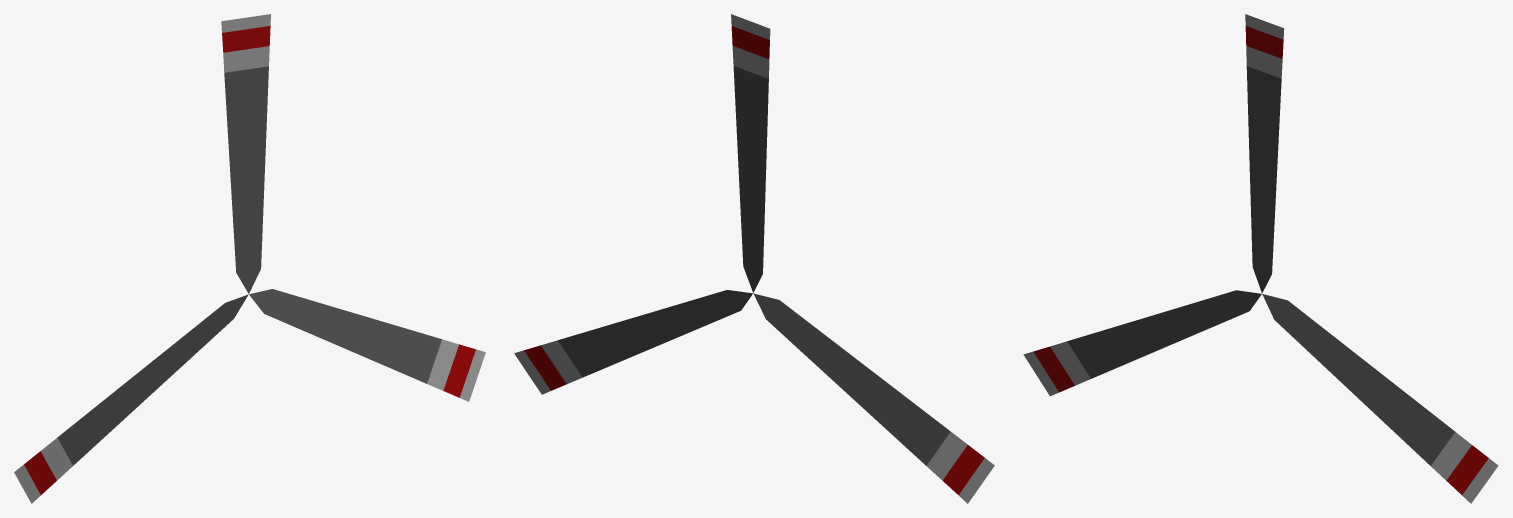
The model's file is Prop_US2ANP.obj.
The picture shows the model from 3 angles, left to right: view 1: azimuth 30°, elevation 25°; view 2: azimuth 150°, elevation 25°; view 3: azimuth 330°, elevation 25°; orthographic projection.
Visible parts, largest first — view 1: ShapeIndexedFaceSet.022_ShapeIndexedFaceSet.023, ShapeIndexedFaceSet.024_ShapeIndexedFaceSet.025, ShapeIndexedFaceSet.023_ShapeIndexedFaceSet.024; view 2: ShapeIndexedFaceSet.022_ShapeIndexedFaceSet.023, ShapeIndexedFaceSet.024_ShapeIndexedFaceSet.025, ShapeIndexedFaceSet.023_ShapeIndexedFaceSet.024; view 3: ShapeIndexedFaceSet.022_ShapeIndexedFaceSet.023, ShapeIndexedFaceSet.024_ShapeIndexedFaceSet.025, ShapeIndexedFaceSet.023_ShapeIndexedFaceSet.024.
Part boxes in pixels (bbox=[...]): ShapeIndexedFaceSet.022_ShapeIndexedFaceSet.023: bbox=[57, 66, 441, 465]; ShapeIndexedFaceSet.024_ShapeIndexedFaceSet.025: bbox=[14, 14, 485, 503]; ShapeIndexedFaceSet.023_ShapeIndexedFaceSet.024: bbox=[24, 26, 475, 494]; ShapeIndexedFaceSet.022_ShapeIndexedFaceSet.023: bbox=[558, 66, 950, 465]; ShapeIndexedFaceSet.024_ShapeIndexedFaceSet.025: bbox=[514, 14, 994, 503]; ShapeIndexedFaceSet.023_ShapeIndexedFaceSet.024: bbox=[524, 26, 984, 494]; ShapeIndexedFaceSet.022_ShapeIndexedFaceSet.023: bbox=[1067, 66, 1454, 465]; ShapeIndexedFaceSet.024_ShapeIndexedFaceSet.025: bbox=[1023, 14, 1498, 503]; ShapeIndexedFaceSet.023_ShapeIndexedFaceSet.024: bbox=[1033, 26, 1488, 494].
Bounding box in the file's own units: 2.99 × 2.59 × 0.1017.
